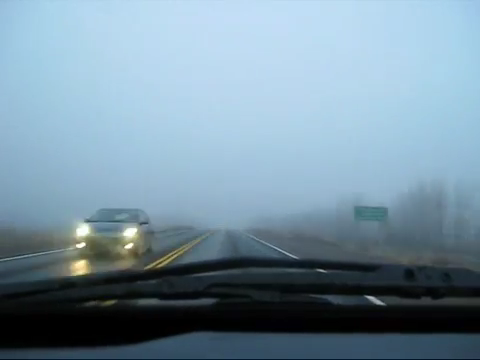car: (73, 207, 154, 256)
